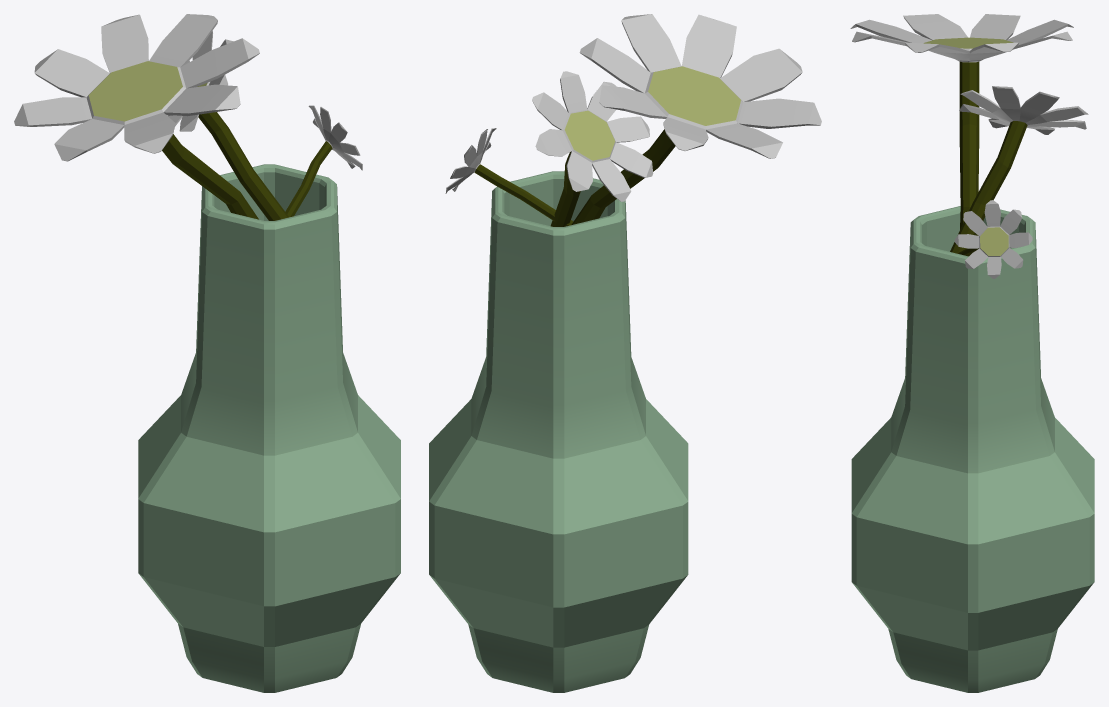
File: flower_vase_2.fbx
3 renders of one model, left to right at view 1: azimuth 30°, elevation 25°; view 2: azimuth 150°, elevation 25°; view 3: azimuth 270°, elevation 25°, orthographic. The views are drawn at different scales.
Parts seen in each view (by area): view 1: pCylinder9; view 2: pCylinder9; view 3: pCylinder9.
Boxes of the visible parts, left/top/right/bottom form: pCylinder9: left=14, top=14, right=400, bottom=692; pCylinder9: left=429, top=14, right=821, bottom=692; pCylinder9: left=850, top=14, right=1094, bottom=692.
Size of the model in its own units: 30.98 by 52.21 by 19.37.
